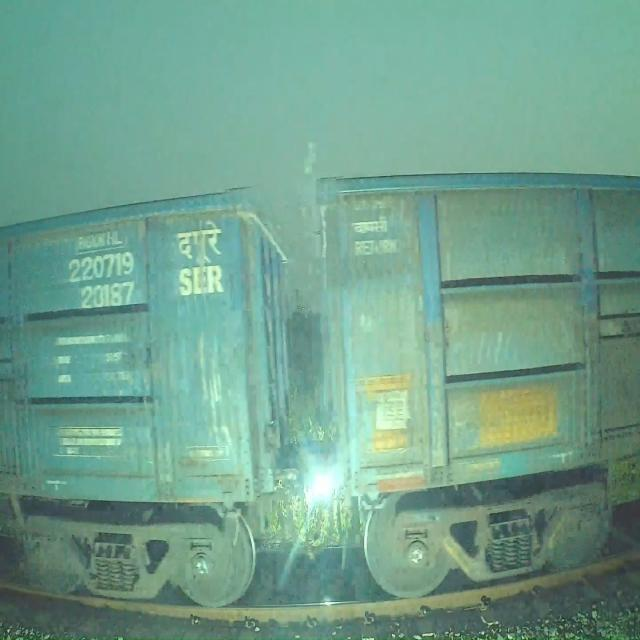WAgon-uic: (312, 165, 640, 604), (0, 176, 302, 608)
uic: (65, 243, 139, 319)
